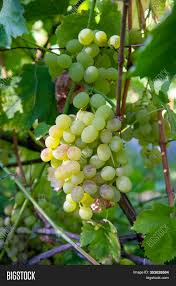grapes: (47, 91, 138, 220), (54, 29, 128, 102)
